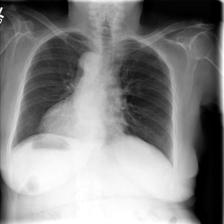normal: (7, 25, 179, 170)
